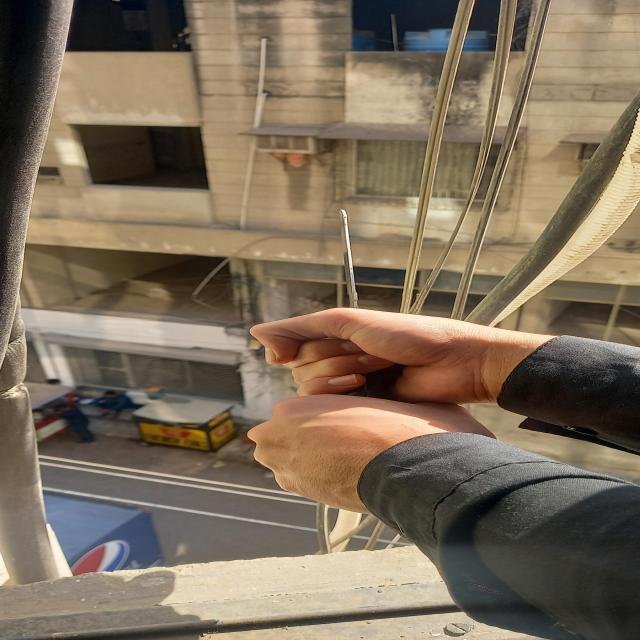faca: (338, 208, 368, 309)
